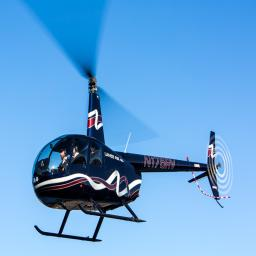helicopter: (34, 2, 240, 244)
